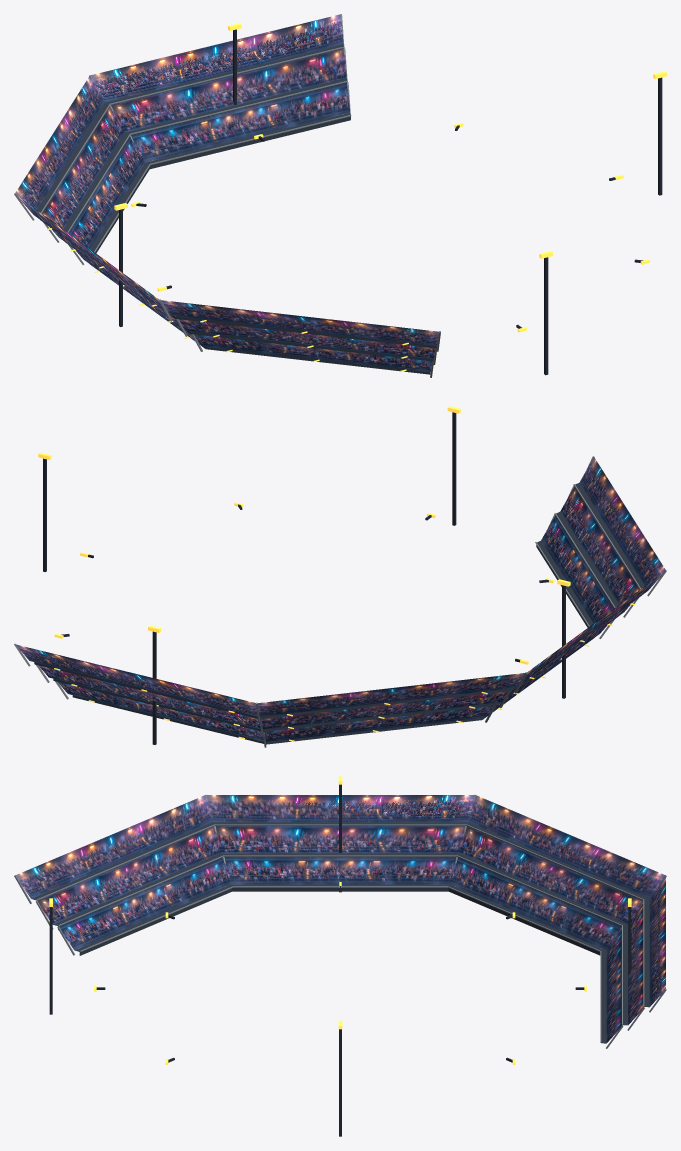
The model's file is curto-circuito-venue-game-v9.glb.
3 renders of one model, top to bottom at view 1: azimuth 30°, elevation 25°; view 2: azimuth 150°, elevation 25°; view 3: azimuth 270°, elevation 25°, orthographic. The views are drawn at different scales.
Parts seen in each view (by area): view 1: Static | Venue | audience image card, Static | Metal | charcoal.001, Static | Iron | machined edges.001, Static | Seams | deep blue graphite.001, Static | Venue | warm lights.001; view 2: Static | Venue | audience image card, Static | Metal | charcoal.001, Static | Seams | deep blue graphite.001, Static | Iron | machined edges.001, Static | Venue | warm lights.001; view 3: Static | Venue | audience image card, Static | Metal | charcoal.001, Static | Iron | machined edges.001, Static | Seams | deep blue graphite.001.
Boxes of the visible parts, left/top/right/bottom form: Static | Venue | audience image card: left=15, top=14, right=438, bottom=371; Static | Metal | charcoal.001: left=37, top=44, right=436, bottom=374; Static | Iron | machined edges.001: left=14, top=14, right=440, bottom=377; Static | Seams | deep blue graphite.001: left=119, top=29, right=662, bottom=375; Static | Venue | warm lights.001: left=47, top=23, right=666, bottom=371; Static | Venue | audience image card: left=16, top=457, right=665, bottom=741; Static | Metal | charcoal.001: left=34, top=482, right=644, bottom=744; Static | Seams | deep blue graphite.001: left=43, top=412, right=565, bottom=744; Static | Iron | machined edges.001: left=14, top=456, right=666, bottom=747; Static | Venue | warm lights.001: left=38, top=406, right=635, bottom=741; Static | Venue | audience image card: left=16, top=795, right=665, bottom=1042; Static | Metal | charcoal.001: left=32, top=822, right=649, bottom=1043; Static | Iron | machined edges.001: left=14, top=794, right=666, bottom=1048; Static | Seams | deep blue graphite.001: left=49, top=784, right=631, bottom=1136.
Size of what is drawn, in the model's own units: 21.82 by 4.37 by 22.9.
5 materials, 1 textured.
